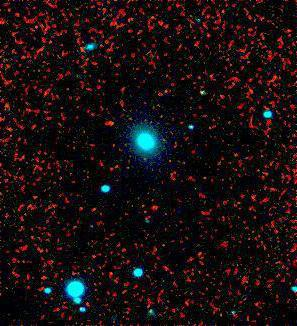star: (92, 108, 122, 138)
